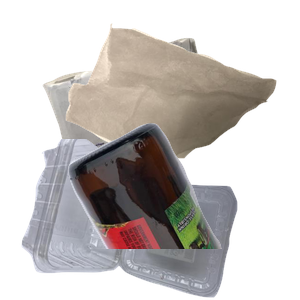glass: (66, 120, 300, 300)
paper: (40, 35, 249, 187)
plastic: (19, 139, 249, 300)
trash: (63, 21, 300, 172)
